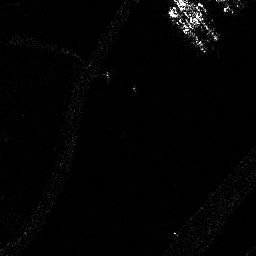ship: (166, 7, 207, 53)
